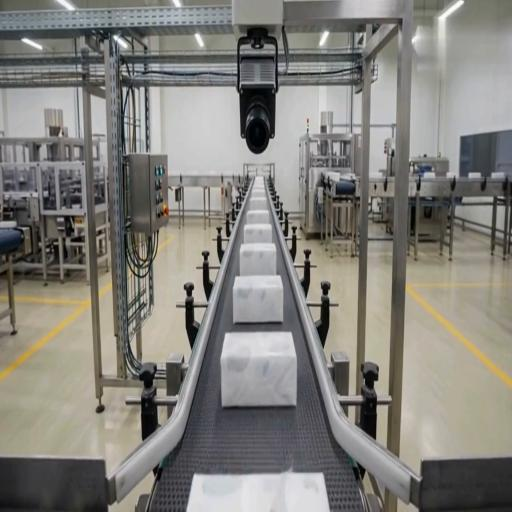defective: (184, 466, 330, 511)
good: (218, 328, 298, 409), (232, 273, 285, 324), (239, 242, 277, 274), (244, 223, 273, 241), (247, 209, 270, 223), (249, 195, 268, 209), (252, 188, 266, 196)
